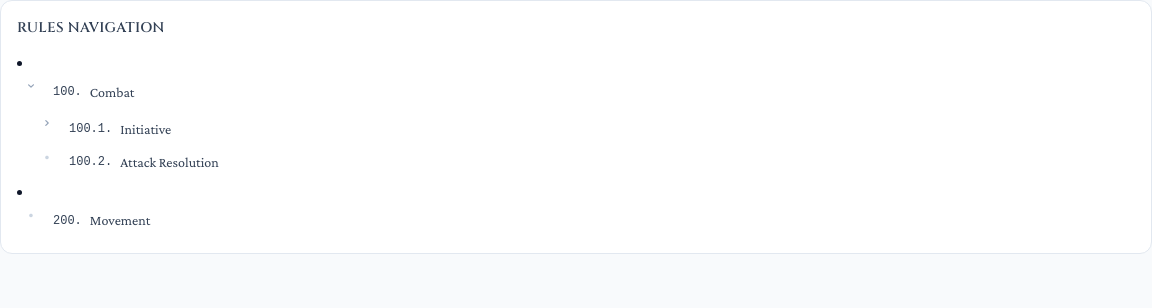
Test case: RuleTree › Expand/Collapse › should expand nested children
What coordinates should you click on to do the following:
click the button named "Expand Initiative"
I would click on:
 (47, 123)
Its box is [37,113,57,133].
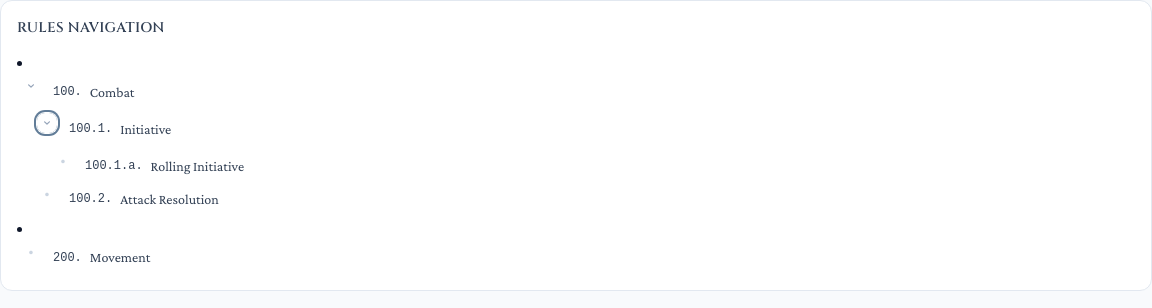
Check: the text "Rolling Initiative" is shown, box [151,158,244,174]
